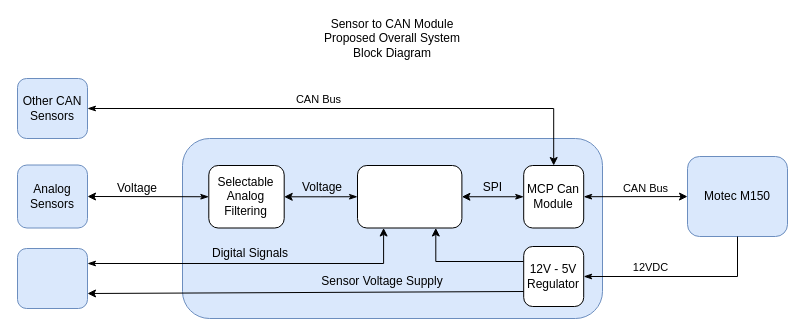
The diagram is 805 pixels wide and 336 high, and some of its shapes have lost their labels. The box of each missing label's shape, as (x1, y1, x2, y2) in pixels:
Digital Sensors: (16, 248, 88, 308)
MCU: (356, 164, 462, 228)
Sensor to CAN Module: (182, 138, 602, 318)
